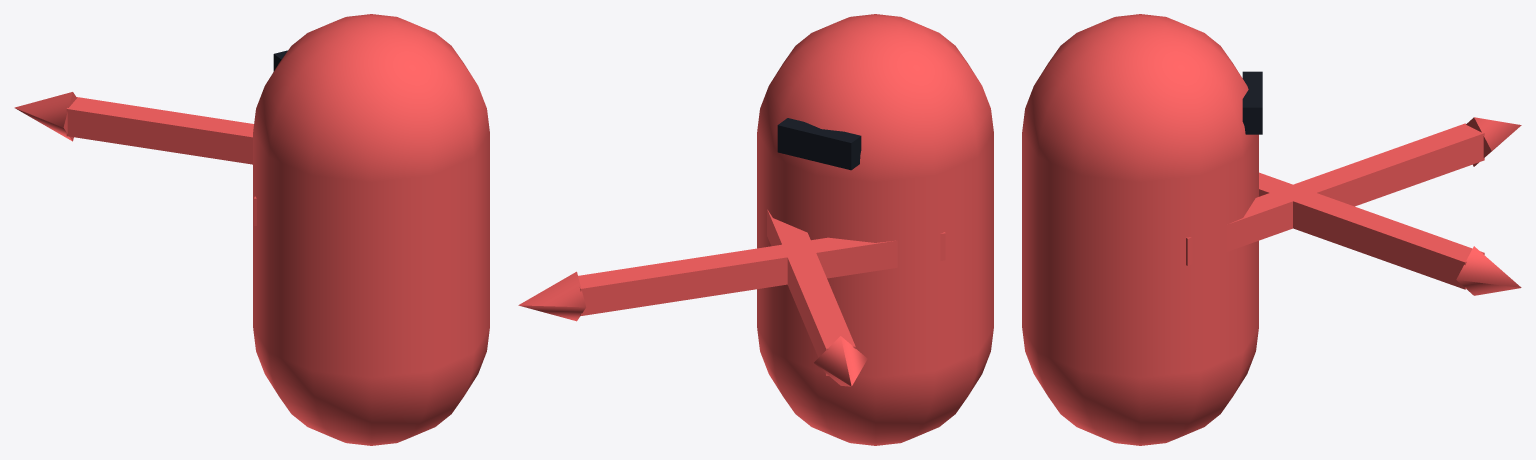
Rendered from enemy-playground-twin-hatchet-maniac-v1.glb.
3 views of the same model, side by side, from view 1: azimuth 30°, elevation 25°; view 2: azimuth 150°, elevation 25°; view 3: azimuth 270°, elevation 25° (orthographic).
Visible parts, largest first — view 1: Twin Hatchet Maniac; view 2: Twin Hatchet Maniac; view 3: Twin Hatchet Maniac.
Boxes of the visible parts, bbox=[...] form: Twin Hatchet Maniac: bbox=[14, 14, 489, 445]; Twin Hatchet Maniac: bbox=[518, 14, 993, 445]; Twin Hatchet Maniac: bbox=[1022, 14, 1521, 445].
Bounding box in the file's own units: 1.54 × 1.81 × 2.
